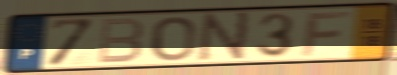3: (256, 11, 296, 60)
7: (48, 16, 95, 68)
B: (95, 16, 146, 65)
F: (299, 10, 354, 58)
N: (195, 10, 253, 63)
O: (150, 15, 197, 63)
